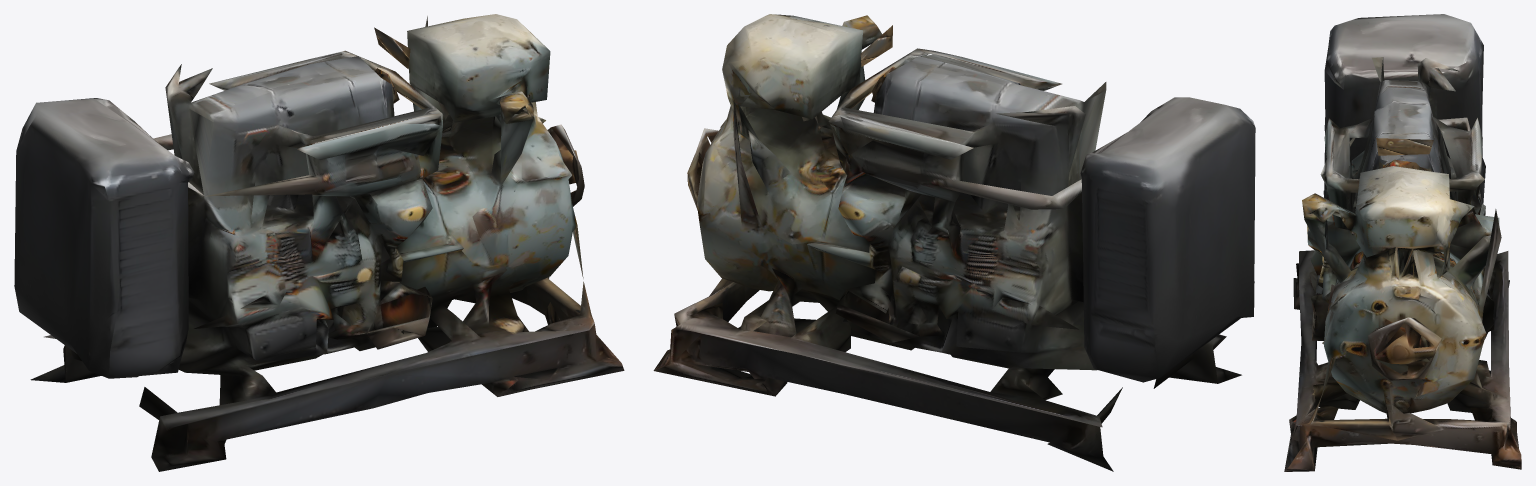
Rendered from hm_generator.glb.
The picture shows the model from 3 angles, left to right: view 1: azimuth 30°, elevation 25°; view 2: azimuth 150°, elevation 25°; view 3: azimuth 270°, elevation 25°; orthographic projection. The views are drawn at different scales.
Parts seen in each view (by area): view 1: tripo_node_fc484364-fad0-4d0f-b63d-e4ac00419cec; view 2: tripo_node_fc484364-fad0-4d0f-b63d-e4ac00419cec; view 3: tripo_node_fc484364-fad0-4d0f-b63d-e4ac00419cec.
Part boxes in pixels (x1,y1,x2,y2): tripo_node_fc484364-fad0-4d0f-b63d-e4ac00419cec: [14, 14, 624, 471]; tripo_node_fc484364-fad0-4d0f-b63d-e4ac00419cec: [653, 14, 1255, 471]; tripo_node_fc484364-fad0-4d0f-b63d-e4ac00419cec: [1284, 14, 1521, 471].
Bounding box in the file's own units: 1 × 0.5878 × 0.4702.
1 material, 1 textured.
